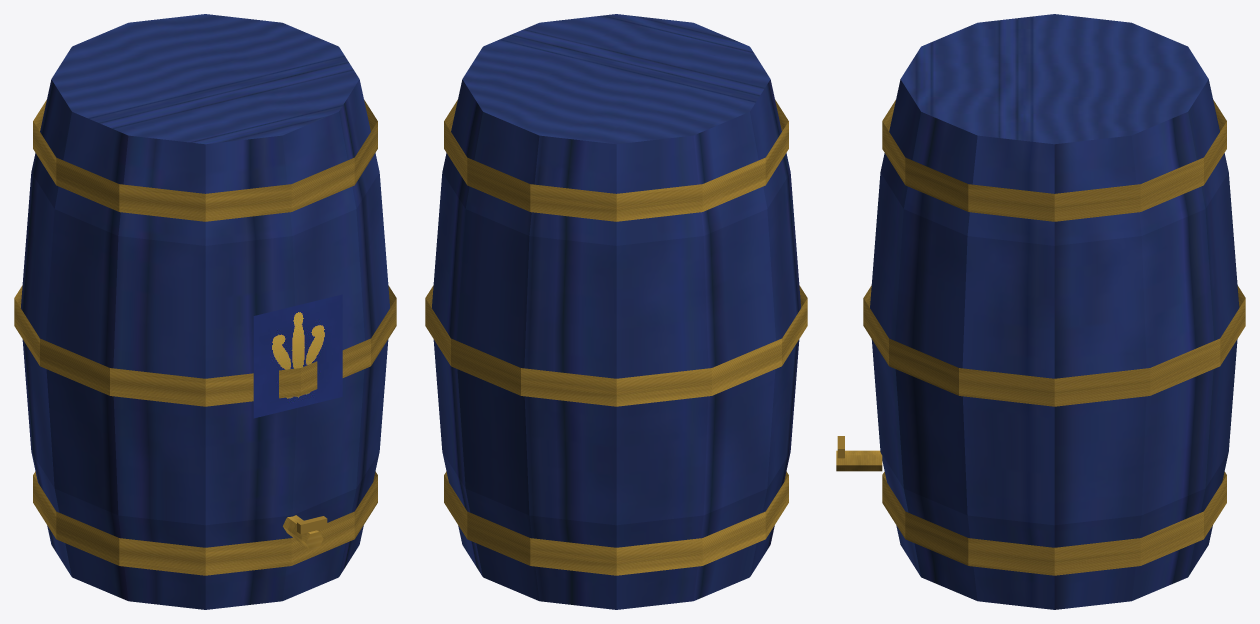
File: prop_barrel_blue.glb
3 views of the same model, side by side, from view 1: azimuth 30°, elevation 25°; view 2: azimuth 150°, elevation 25°; view 3: azimuth 270°, elevation 25° (orthographic).
Visible parts, largest first — view 1: prop_barrel_blue; view 2: prop_barrel_blue; view 3: prop_barrel_blue.
Boxes of the visible parts, bbox=[...] form: prop_barrel_blue: bbox=[14, 14, 396, 609]; prop_barrel_blue: bbox=[425, 14, 807, 609]; prop_barrel_blue: bbox=[836, 14, 1245, 609].
Bounding box in the file's own units: 0.744 × 1 × 0.7971.
1 material, 1 textured.
